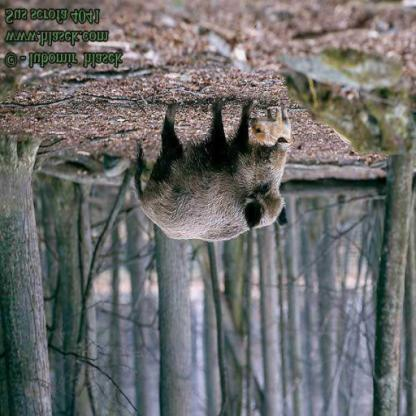boar: (127, 141, 324, 272)
